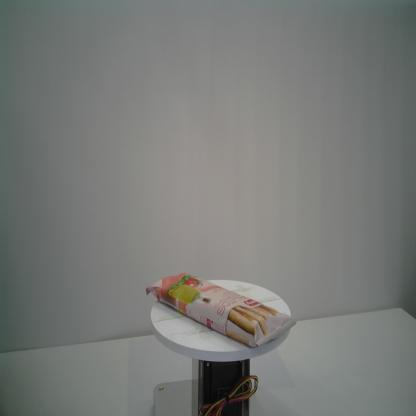Dessert: (143, 271, 299, 354)
